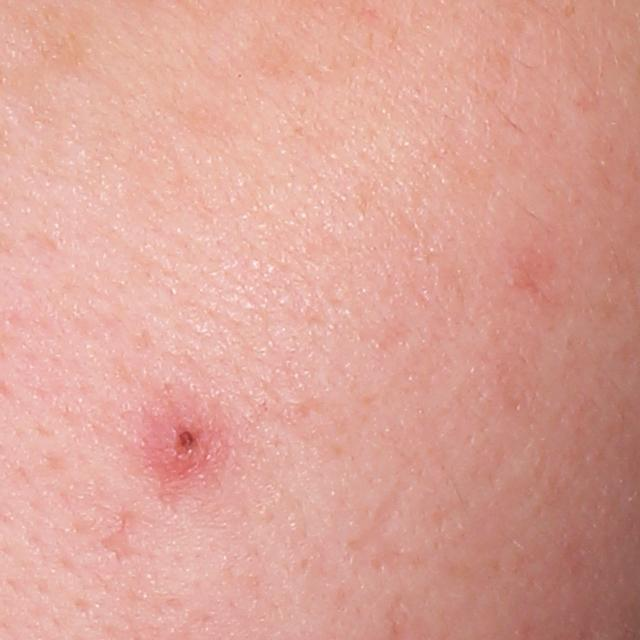atrophic_scar: (351, 479, 423, 574), (100, 511, 134, 567)
papule: (141, 399, 220, 490)
